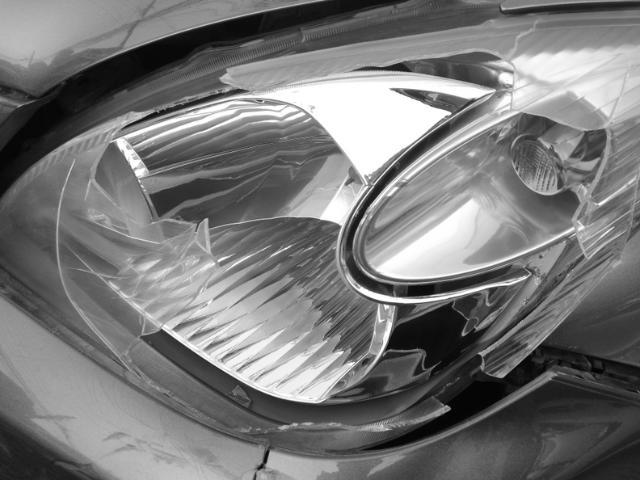Light: (102, 79, 549, 405)
